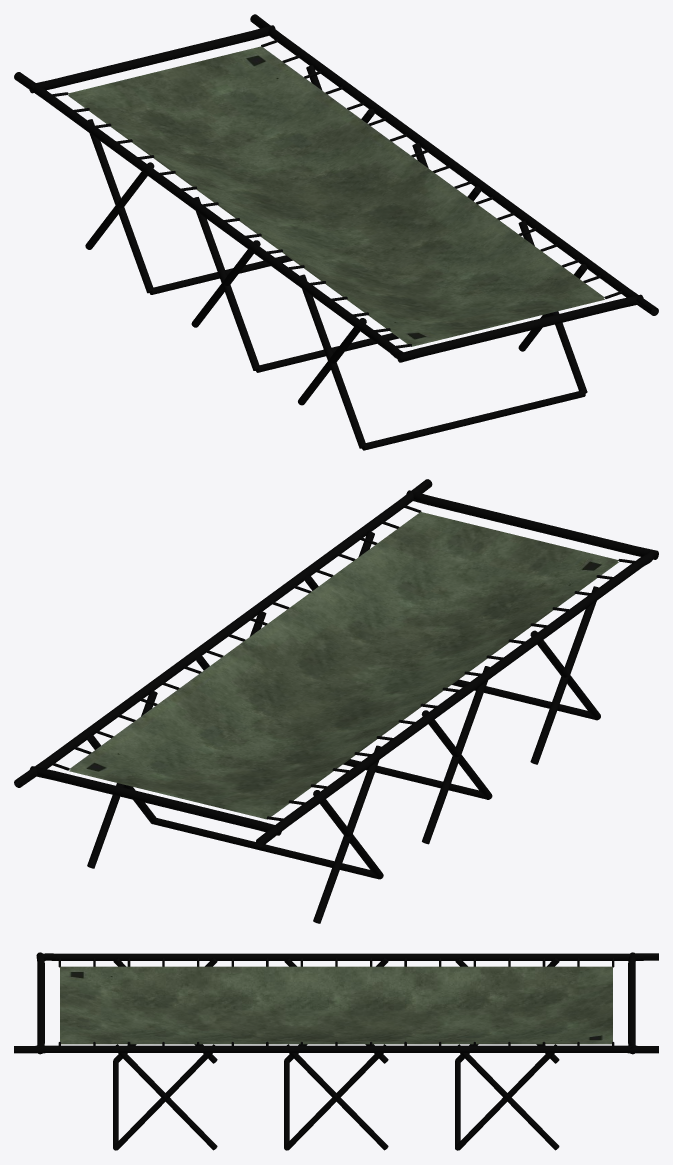
File: folding_cot_web.glb
3 renders of one model, top to bottom at view 1: azimuth 30°, elevation 25°; view 2: azimuth 150°, elevation 25°; view 3: azimuth 270°, elevation 25°, orthographic. The views are drawn at different scales.
Parts seen in each view (by area): view 1: FoldingCot_Mesh; view 2: FoldingCot_Mesh; view 3: FoldingCot_Mesh.
Part boxes in pixels (bbox=[...]): FoldingCot_Mesh: bbox=[14, 14, 658, 450]; FoldingCot_Mesh: bbox=[14, 479, 658, 923]; FoldingCot_Mesh: bbox=[14, 952, 658, 1150].
Size of the model in its own units: 0.7303 by 0.381 by 2.07.
Materials: 1 (1 with a texture image).
